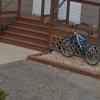Bicycle: (57, 20, 99, 70)
